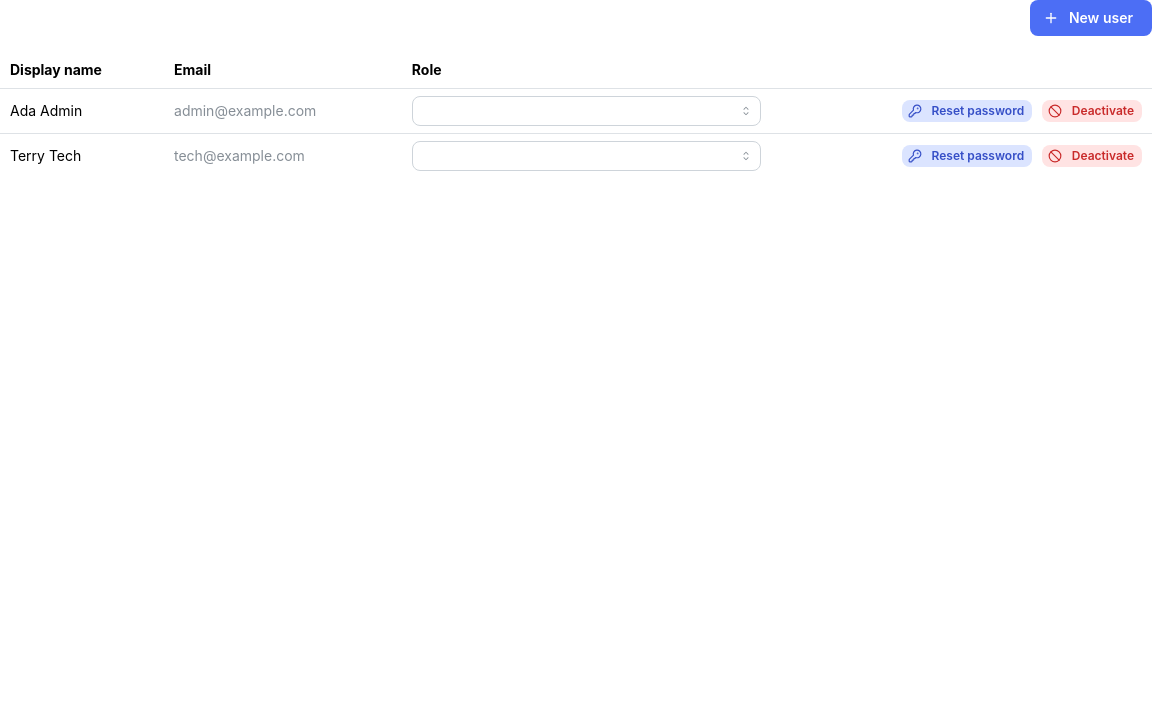
Test: UsersAdmin › cancelling the deactivate confirmation sends nothing
Click the button "Deactivate" in the row of "Ada Admin" at (1092, 111), box [1042, 100, 1142, 122]
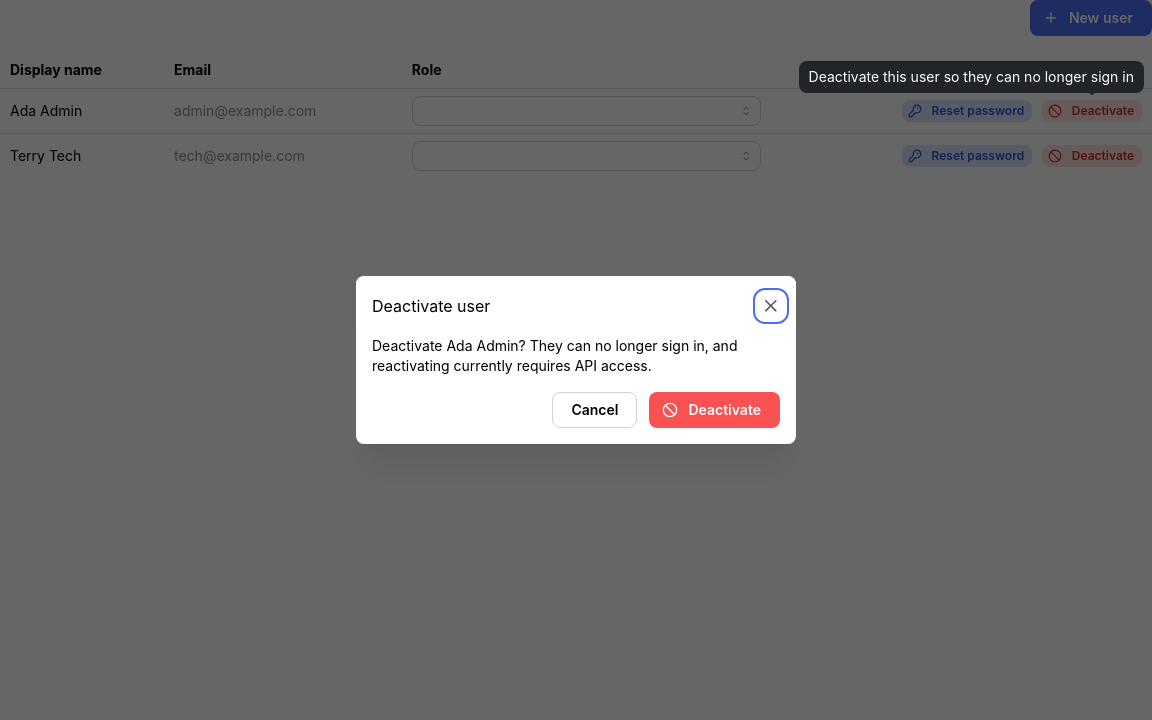
Click the button "Cancel" at (595, 410), box [552, 392, 637, 428]
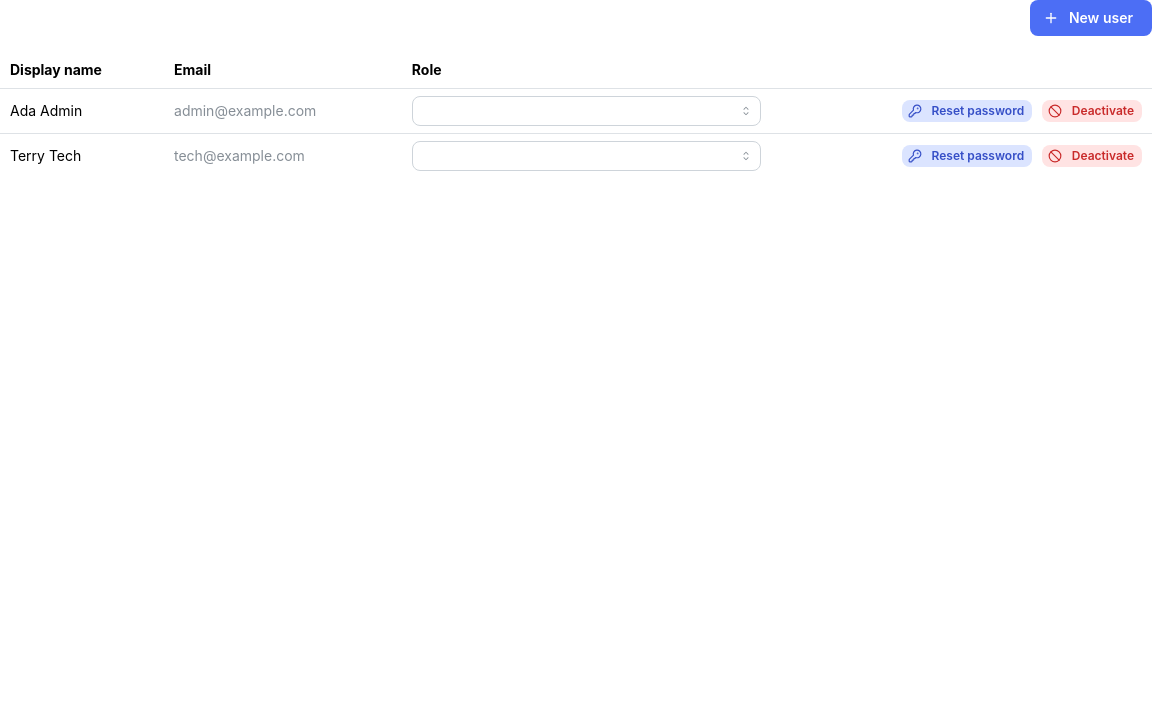
Expected: the heading "Deactivate user" is gone
